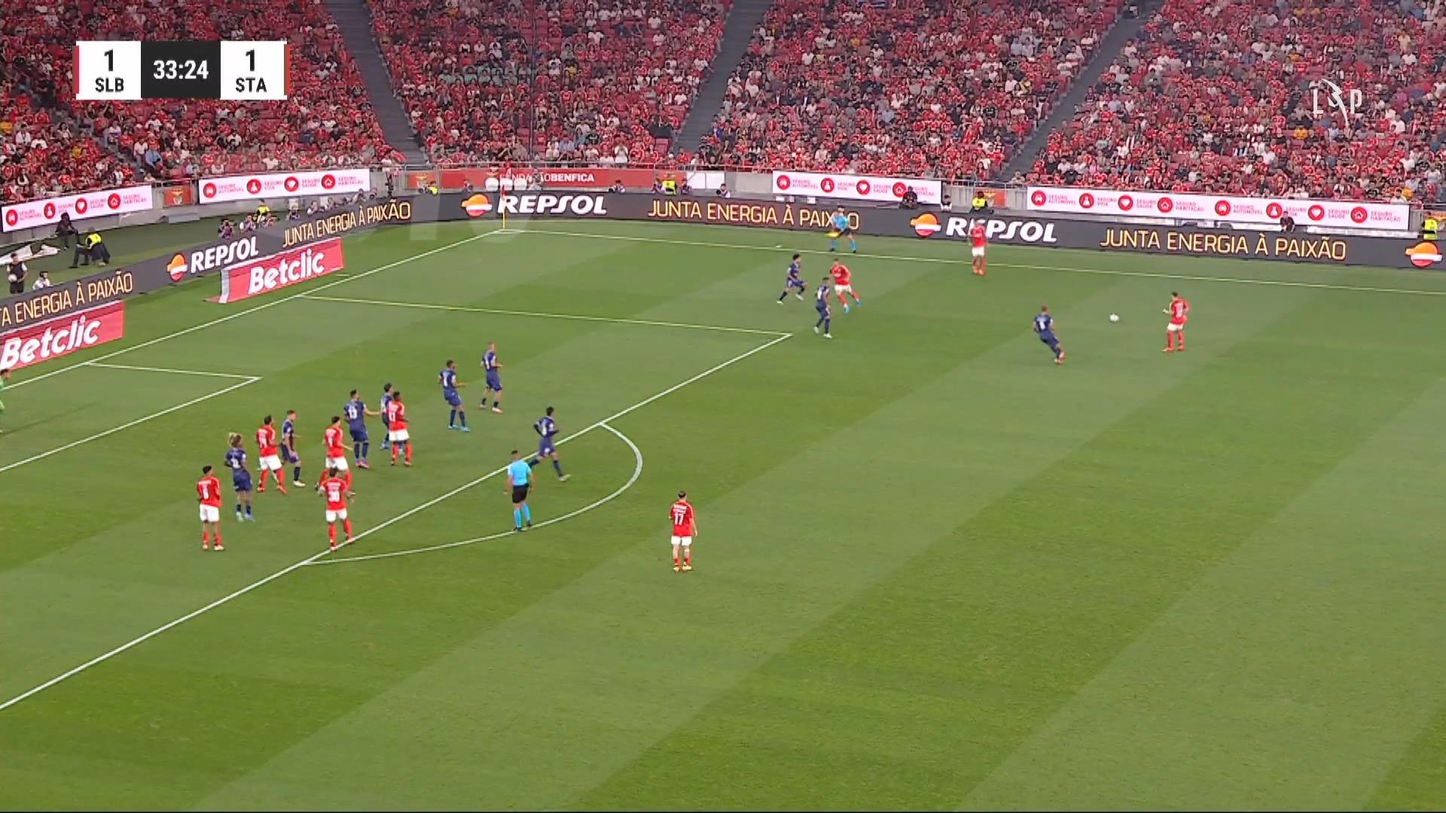ball: (1109, 312, 1118, 322)
player: (315, 465, 355, 551), (342, 388, 383, 469), (529, 404, 570, 482), (223, 431, 255, 522), (254, 414, 288, 494), (319, 414, 353, 490), (195, 464, 224, 550), (668, 489, 698, 571), (437, 358, 470, 432), (383, 390, 413, 466), (279, 409, 306, 487), (1032, 304, 1066, 364), (477, 341, 504, 413), (828, 257, 861, 313), (1161, 291, 1189, 352), (776, 252, 807, 304), (812, 275, 833, 338), (377, 381, 395, 450), (967, 218, 987, 275)
referee: (502, 448, 535, 531), (825, 204, 857, 254)
